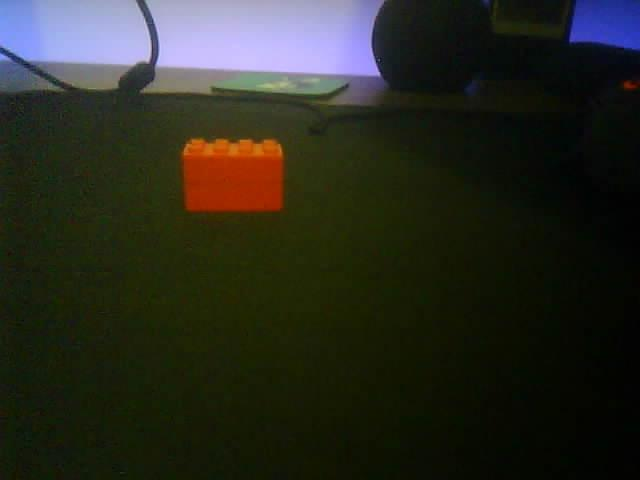lego: (181, 137, 285, 213)
